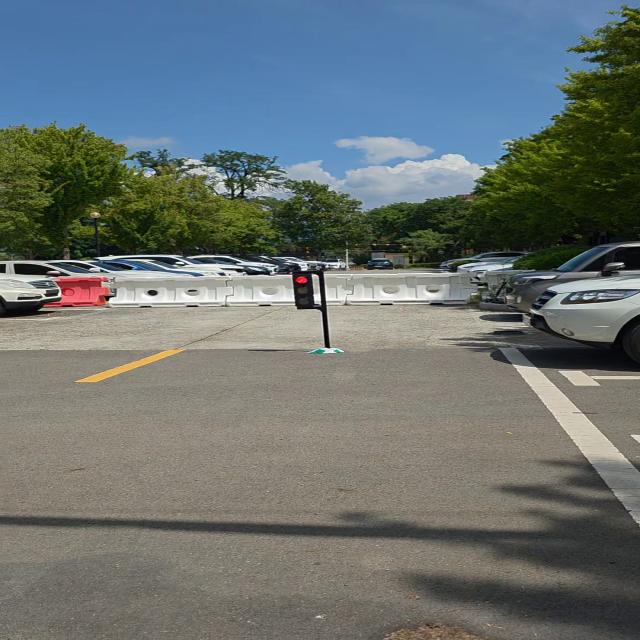red: (290, 272, 322, 309)
